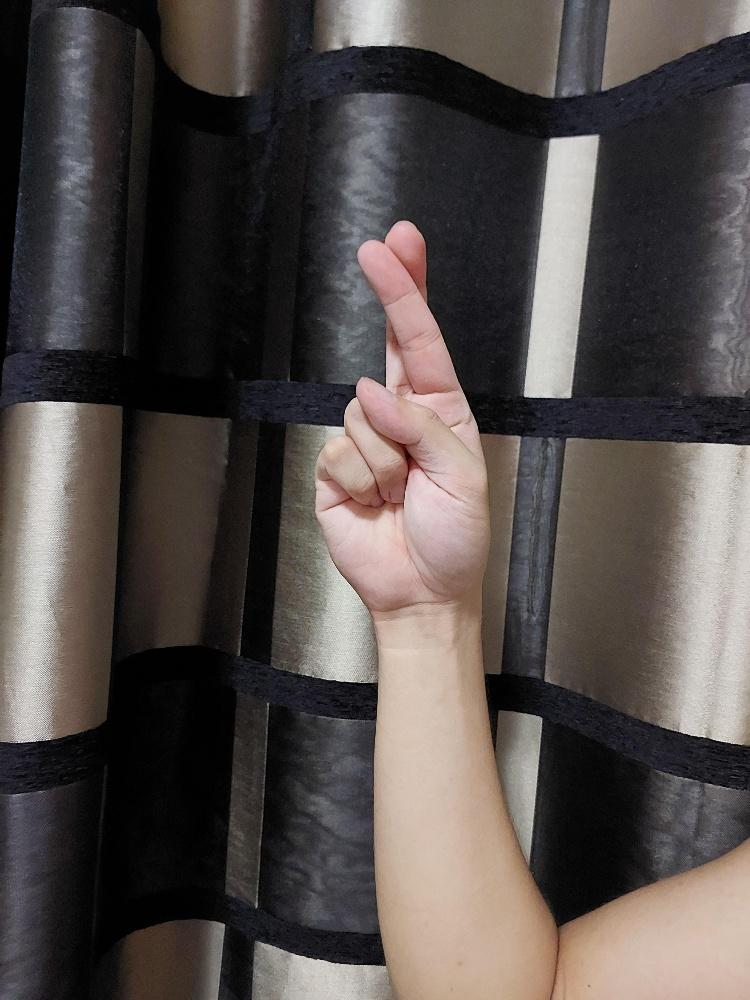r: (311, 218, 491, 618)
